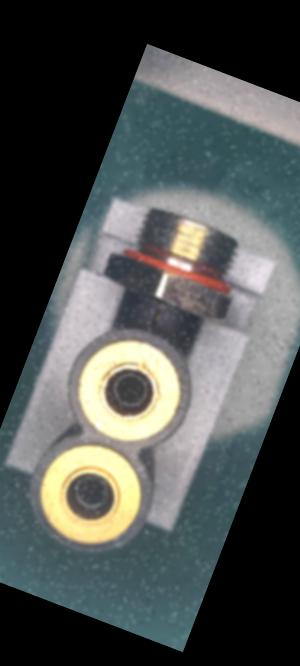craze: (141, 296, 170, 335)
